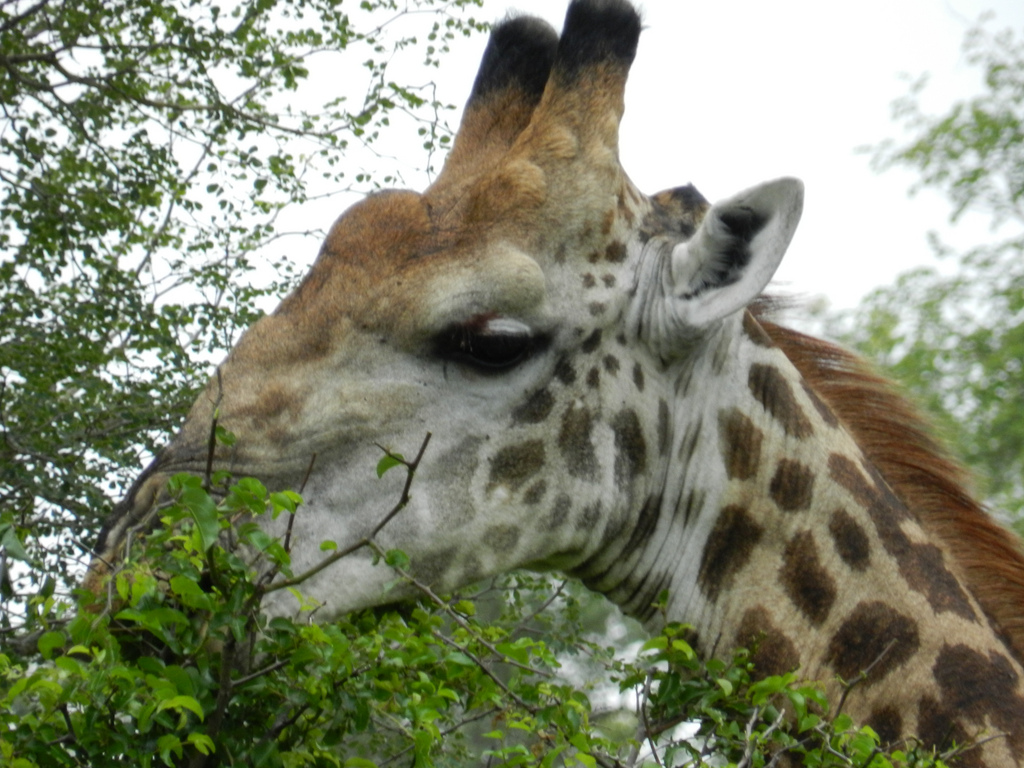giraffe: (124, 5, 999, 729)
